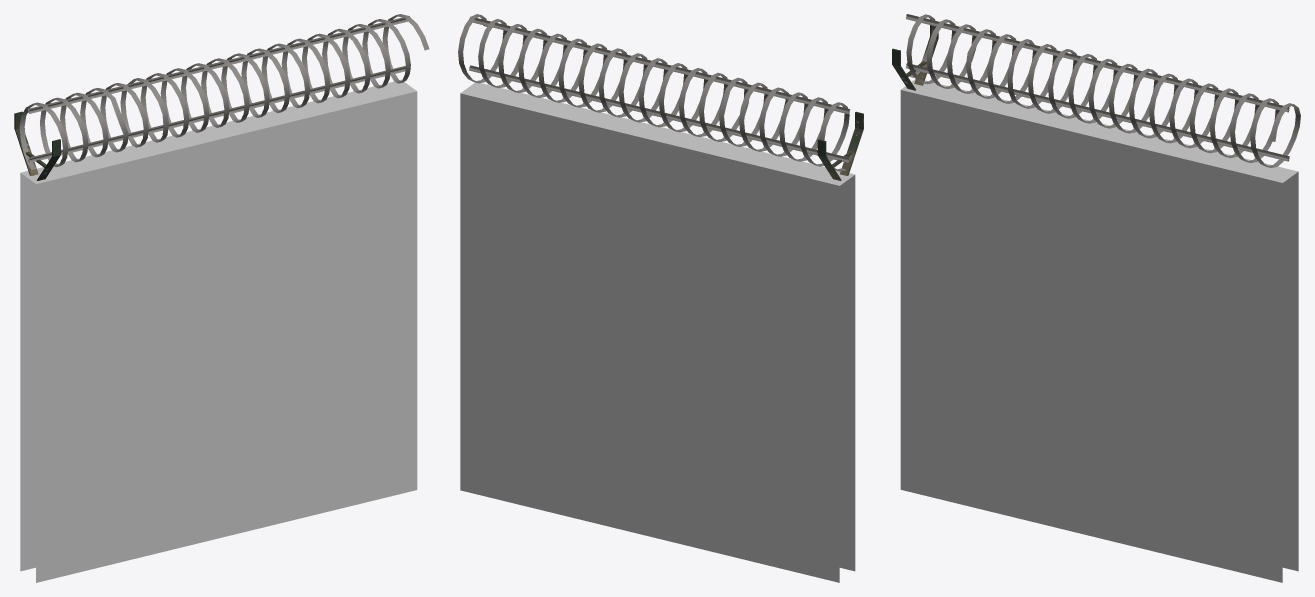
The model's file is SM_Wall_Perimeter.fbx.
The picture shows the model from 3 angles, left to right: view 1: azimuth 30°, elevation 25°; view 2: azimuth 150°, elevation 25°; view 3: azimuth 330°, elevation 25°; orthographic projection.
Visible parts, largest first — view 1: SM_Wall_Perimeter_LOD0; view 2: SM_Wall_Perimeter_LOD0; view 3: SM_Wall_Perimeter_LOD0.
Part boxes in pixels (x1,y1,x2,y2): SM_Wall_Perimeter_LOD0: [14, 14, 429, 582]; SM_Wall_Perimeter_LOD0: [458, 14, 863, 582]; SM_Wall_Perimeter_LOD0: [892, 14, 1300, 582].
Bounding box in the file's own units: 705 × 123 × 824.
